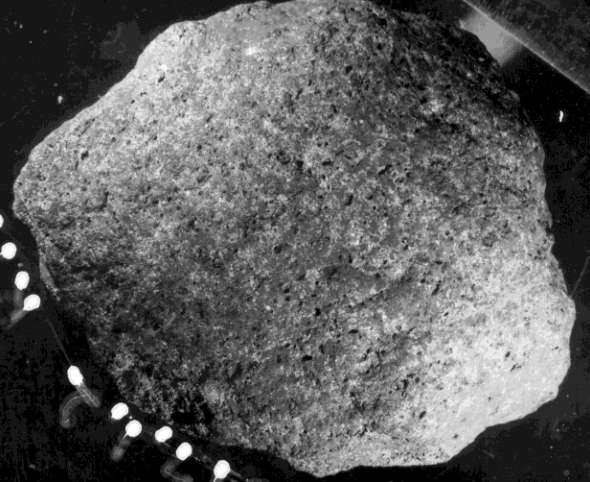Basalt: (46, 100, 549, 461), (7, 141, 446, 405), (216, 36, 522, 353)
